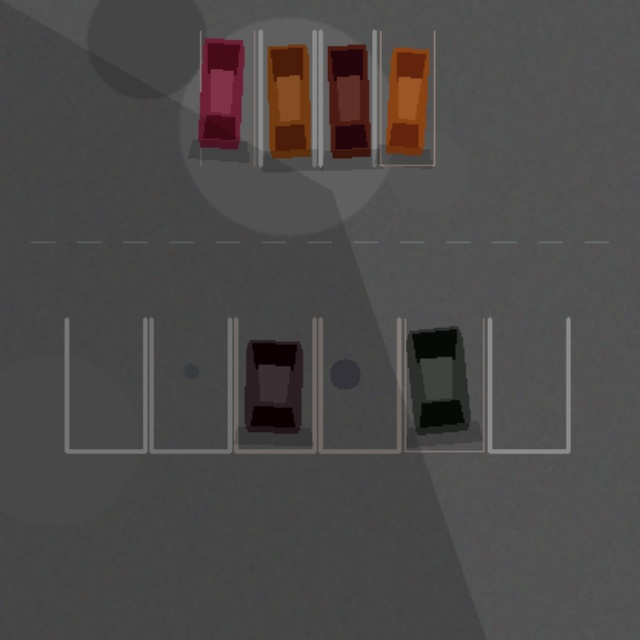space-empty: (66, 318, 145, 451), (489, 318, 568, 451), (151, 318, 229, 451), (320, 318, 398, 451)
space-occupied: (235, 318, 314, 451), (405, 318, 483, 451), (200, 31, 254, 165), (260, 31, 314, 165), (320, 31, 374, 165), (380, 31, 434, 165)
